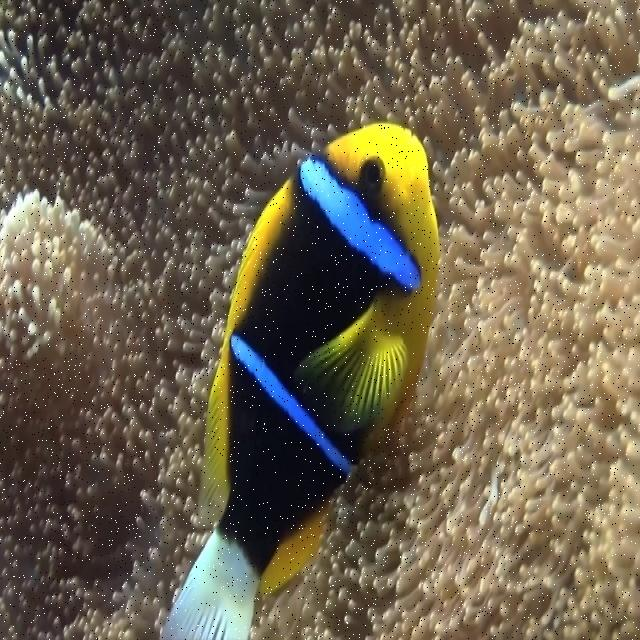fish: (160, 124, 440, 638)
reefs: (0, 1, 638, 639)
